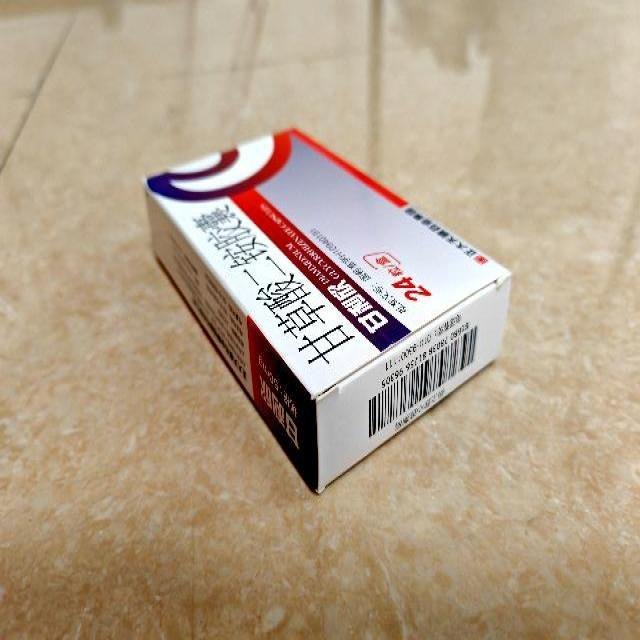box: (144, 127, 512, 494)
